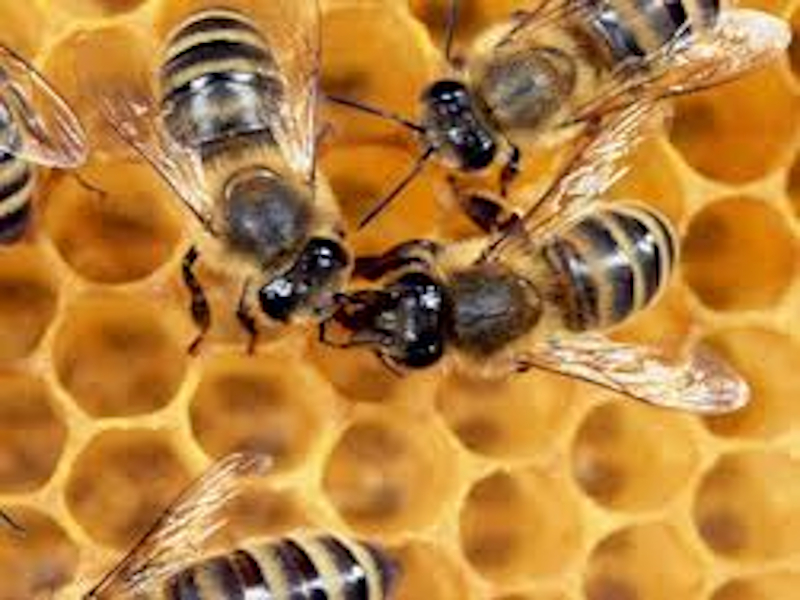abeja: (323, 156, 732, 425), (348, 1, 761, 221), (134, 1, 365, 352), (78, 434, 413, 600)
